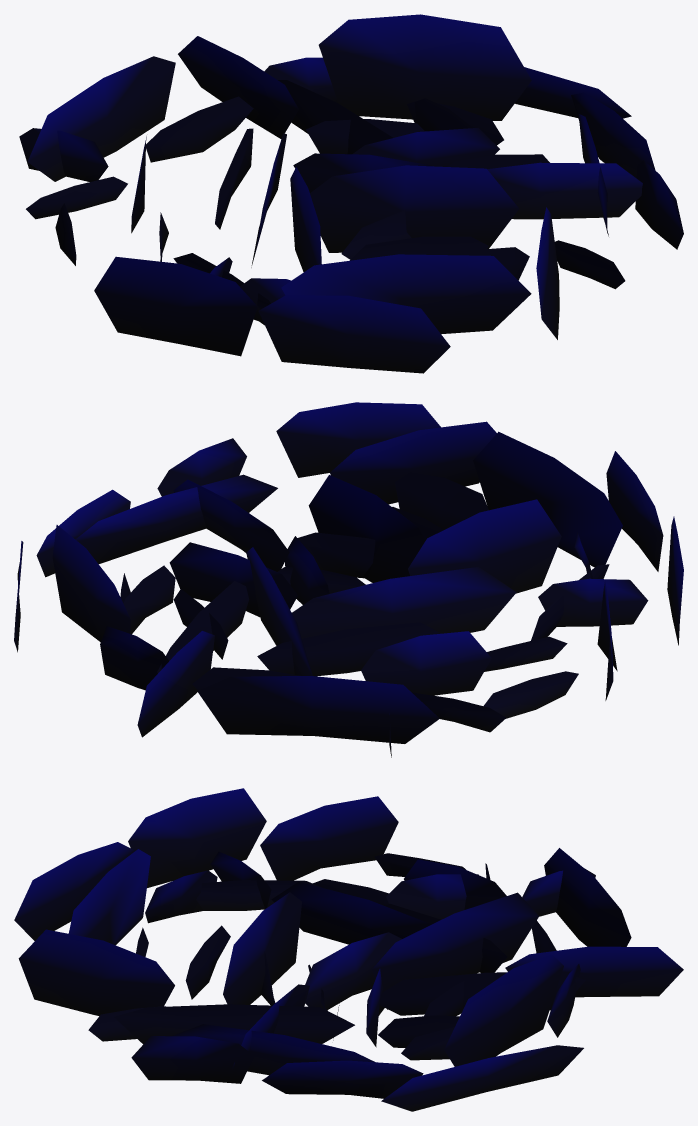
Rendered from SM_Grass_XS_Patch_L_03.fbx.
The picture shows the model from 3 angles, top to bottom: view 1: azimuth 30°, elevation 25°; view 2: azimuth 150°, elevation 25°; view 3: azimuth 270°, elevation 25°; orthographic projection. The views are drawn at different scales.
Visible parts, largest first — view 1: SM_Grass_XS_Patch_L_03; view 2: SM_Grass_XS_Patch_L_03; view 3: SM_Grass_XS_Patch_L_03.
Part boxes in pixels (x1,y1,x2,y2): SM_Grass_XS_Patch_L_03: [19, 14, 683, 373]; SM_Grass_XS_Patch_L_03: [14, 402, 683, 757]; SM_Grass_XS_Patch_L_03: [14, 788, 683, 1111].
Bounding box in the file's own units: 195 × 208 × 30.41.
